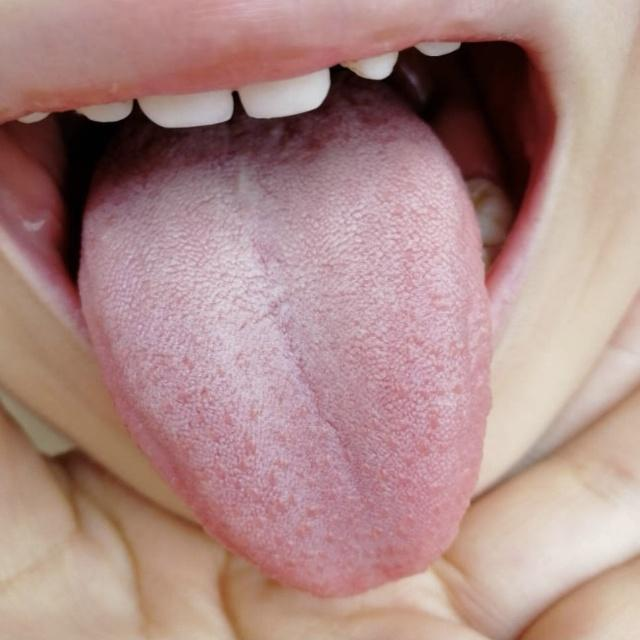baitaishe: (76, 129, 494, 599)
